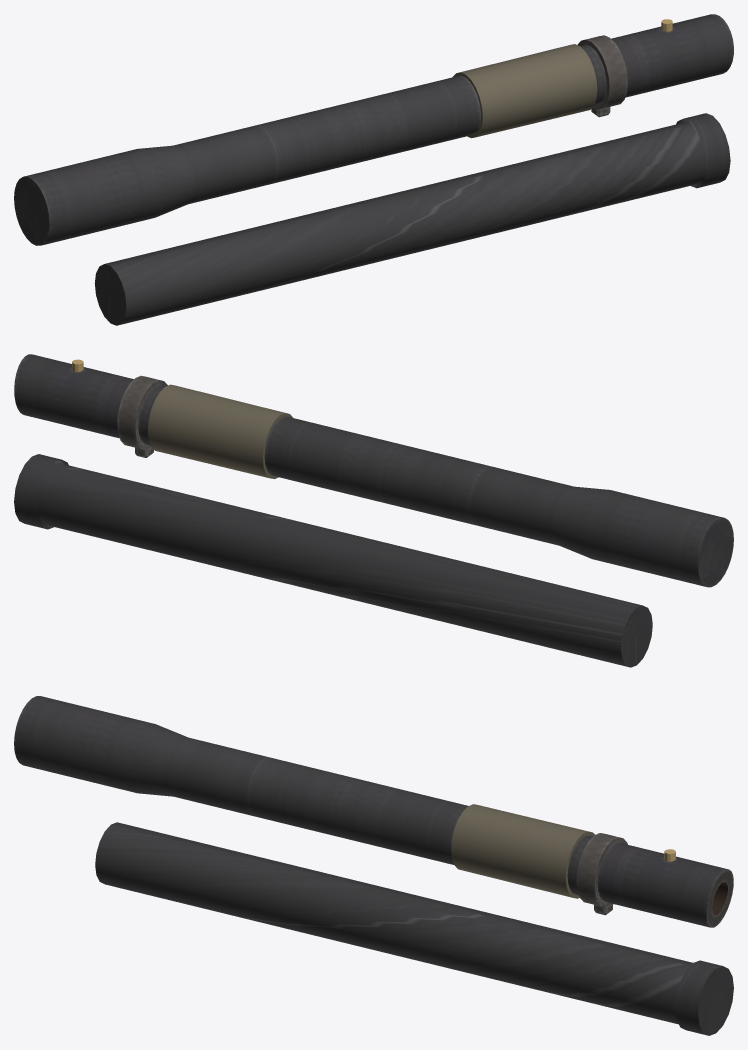
Rendered from sawn_stub.glb.
The picture shows the model from 3 angles, top to bottom: view 1: azimuth 30°, elevation 25°; view 2: azimuth 150°, elevation 25°; view 3: azimuth 330°, elevation 25°; orthographic projection.
Visible parts, largest first — view 1: sawn_stub, MagTubeStub; view 2: sawn_stub, MagTubeStub; view 3: sawn_stub, MagTubeStub.
Part boxes in pixels (<box>): sawn_stub: <box>14,14,733,245</box>; MagTubeStub: <box>94,113,730,325</box>; sawn_stub: <box>14,354,733,587</box>; MagTubeStub: <box>14,454,652,667</box>; sawn_stub: <box>14,696,733,927</box>; MagTubeStub: <box>95,822,733,1035</box>.
Bounding box in the file's own units: 0.3012 × 0.071 × 0.0272.
1 material, 1 textured.
